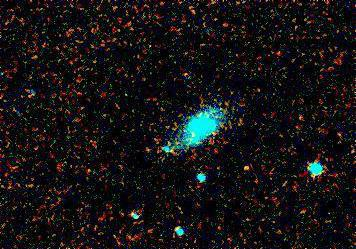star: (233, 155, 263, 185)
